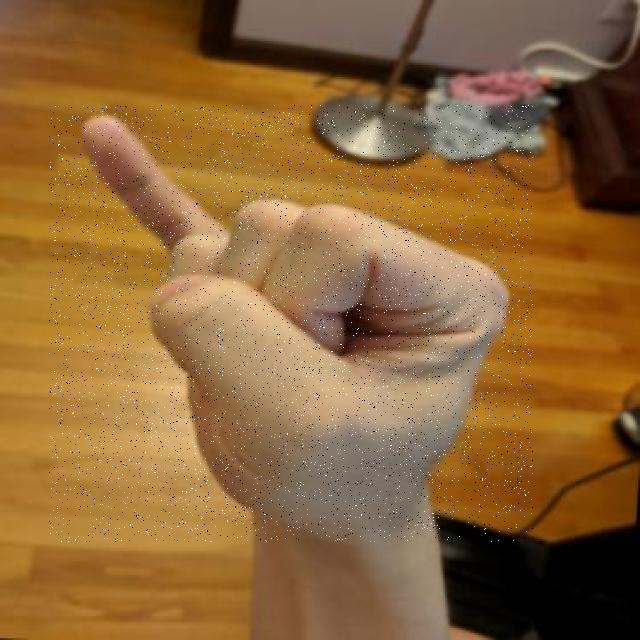I: (49, 105, 533, 542)
